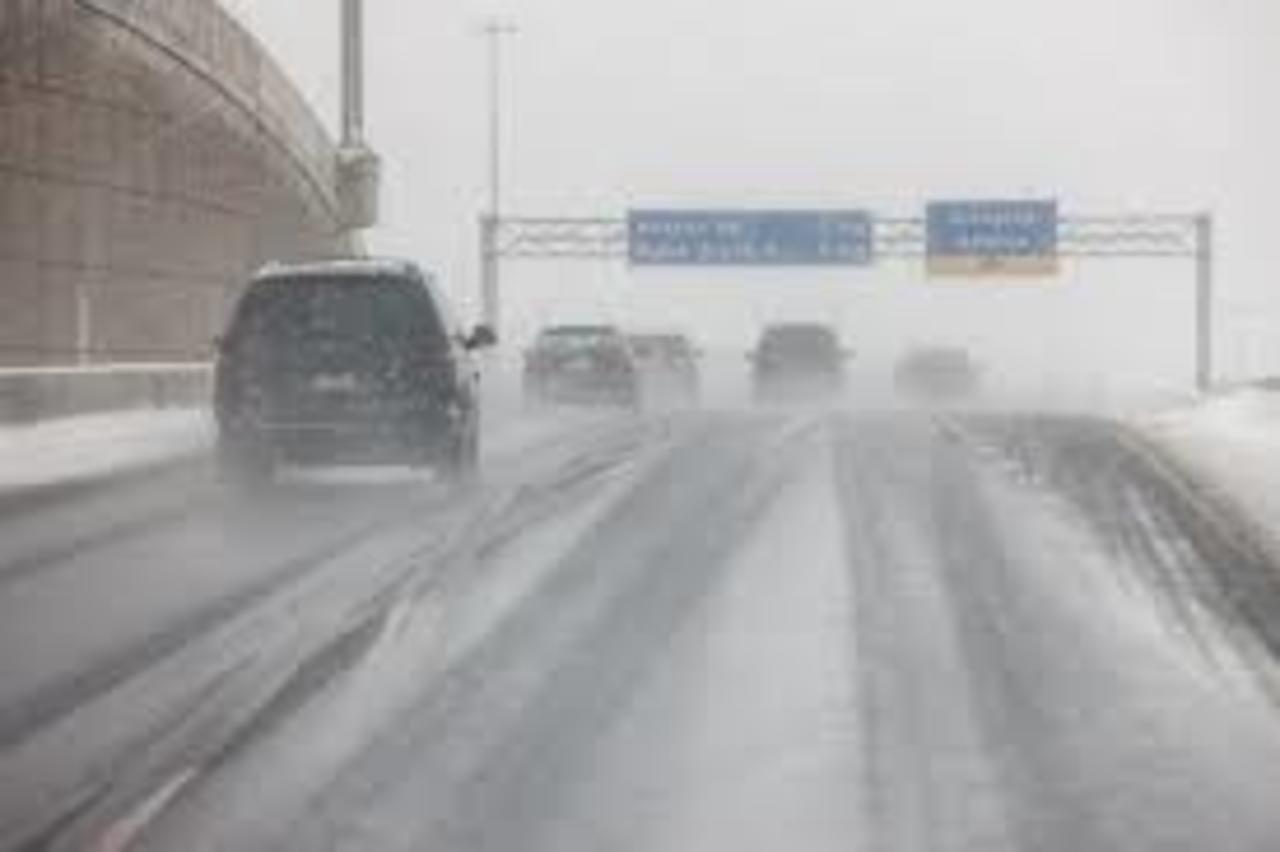car: (211, 262, 480, 493), (741, 318, 857, 413), (529, 326, 649, 411), (625, 332, 713, 399)
